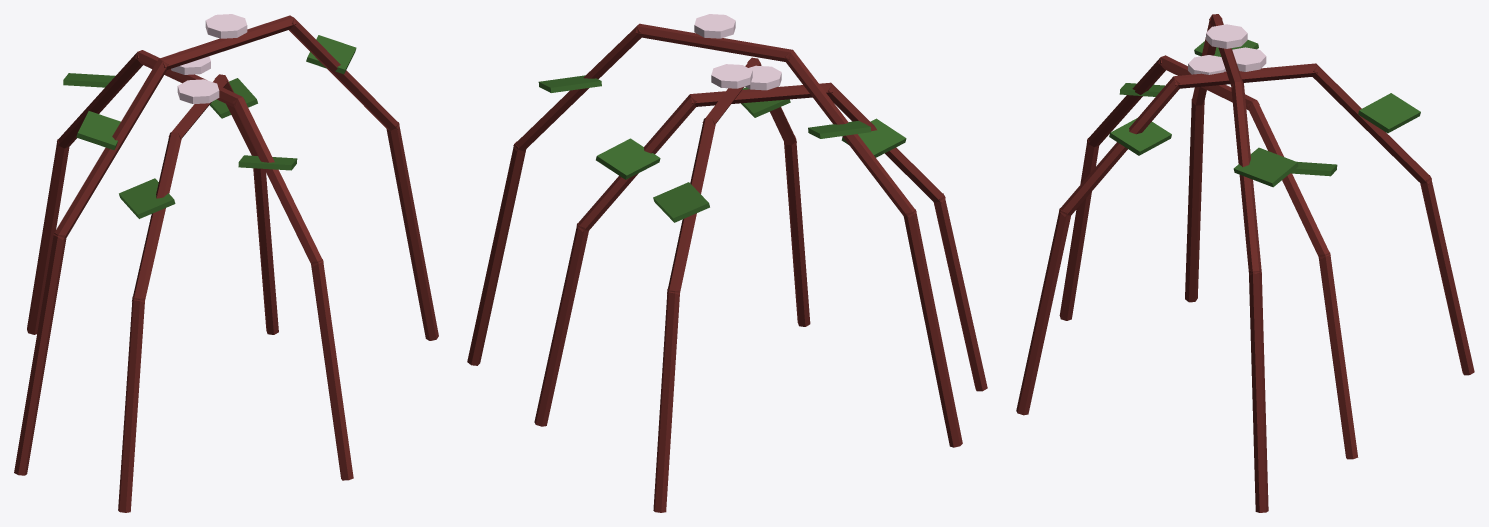
File: Prop_Bee_Flora_Bramble.glb
The picture shows the model from 3 angles, left to right: view 1: azimuth 30°, elevation 25°; view 2: azimuth 150°, elevation 25°; view 3: azimuth 270°, elevation 25°; orthographic projection. The views are drawn at different scales.
Visible parts, largest first — view 1: Prop_Bee_Flora_Bramble; view 2: Prop_Bee_Flora_Bramble; view 3: Prop_Bee_Flora_Bramble.
Part boxes in pixels (left/top/right/bottom): Prop_Bee_Flora_Bramble: left=14, top=14, right=438, bottom=512; Prop_Bee_Flora_Bramble: left=467, top=14, right=987, bottom=512; Prop_Bee_Flora_Bramble: left=1016, top=14, right=1474, bottom=512.
Bounding box in the file's own units: 0.3948 × 0.3156 × 0.3514.
